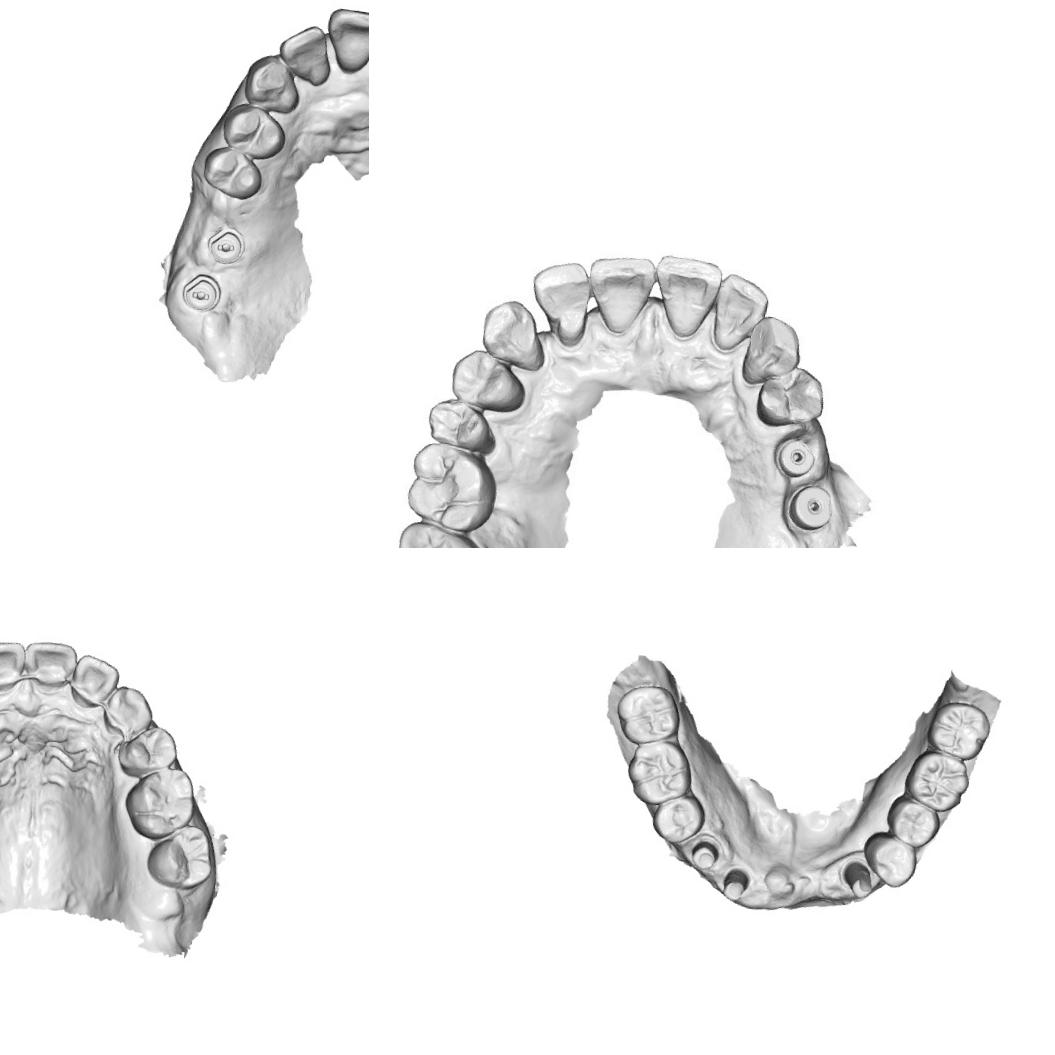abutment: (838, 858, 882, 902), (718, 864, 756, 906), (686, 836, 722, 876)
canine: (476, 295, 556, 377), (736, 316, 802, 397), (240, 52, 306, 115), (858, 828, 922, 891), (98, 682, 158, 744)
implant: (787, 481, 837, 536), (770, 430, 818, 475)
implant_minus: (202, 220, 248, 270), (178, 268, 224, 315)
incisor: (580, 248, 658, 340), (648, 252, 718, 344), (530, 258, 598, 342), (711, 271, 765, 356), (274, 19, 337, 86), (319, 3, 369, 77), (19, 636, 80, 695), (67, 651, 122, 714), (0, 635, 26, 693)
molar: (400, 440, 506, 538), (118, 761, 200, 847), (620, 734, 698, 813), (142, 818, 219, 894), (611, 678, 685, 750), (922, 696, 995, 765), (900, 748, 974, 816), (388, 519, 498, 548)
premolar: (751, 360, 833, 438), (450, 352, 532, 415), (426, 398, 508, 458), (218, 100, 292, 162), (198, 142, 268, 204), (115, 720, 182, 781), (881, 794, 944, 852), (649, 792, 709, 849)
